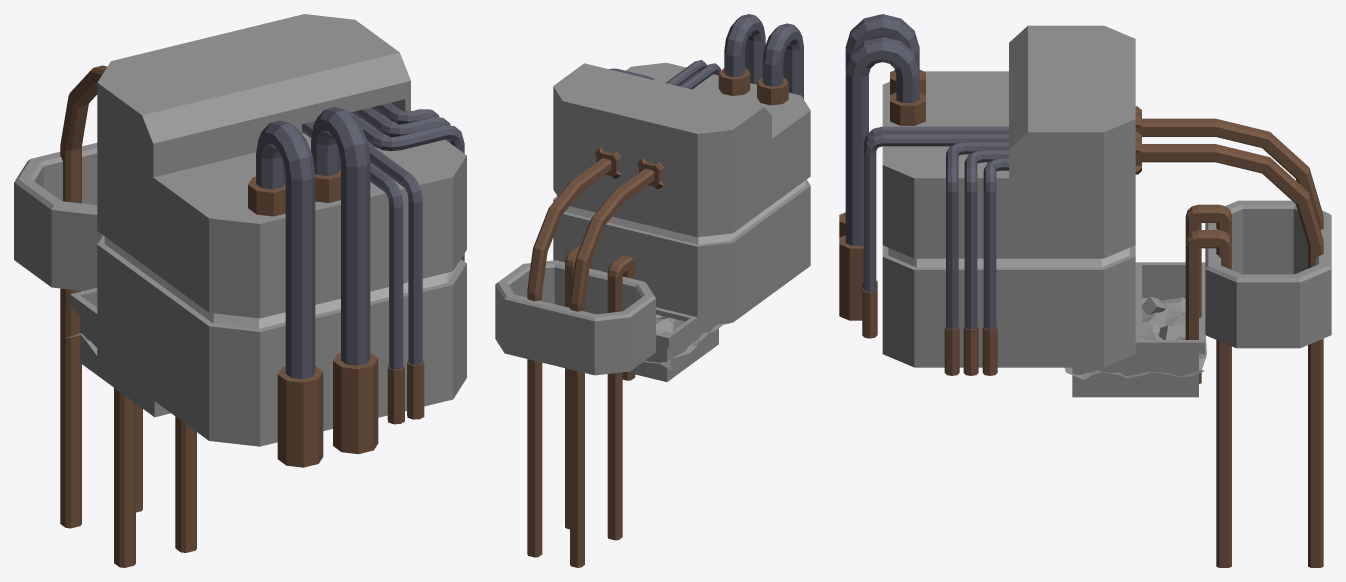
The model's file is maden.fbx.
3 renders of one model, left to right at view 1: azimuth 30°, elevation 25°; view 2: azimuth 150°, elevation 25°; view 3: azimuth 270°, elevation 25°, orthographic. The views are drawn at different scales.
Parts seen in each view (by area): view 1: Maden; view 2: Maden; view 3: Maden.
Boxes of the visible parts, <box> form: Maden: <box>14,14,466,567</box>; Maden: <box>495,14,810,567</box>; Maden: <box>839,14,1331,567</box>.
Bounding box in the file's own units: 432 × 883 × 778.
